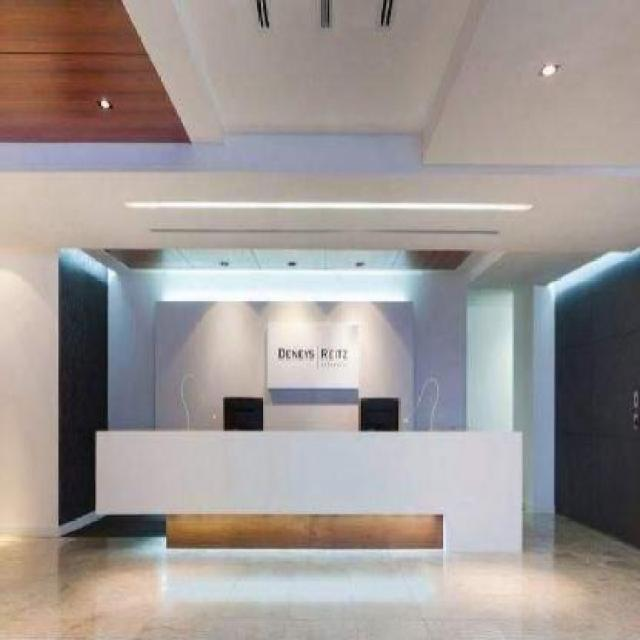frontdesk: (90, 414, 528, 565)
